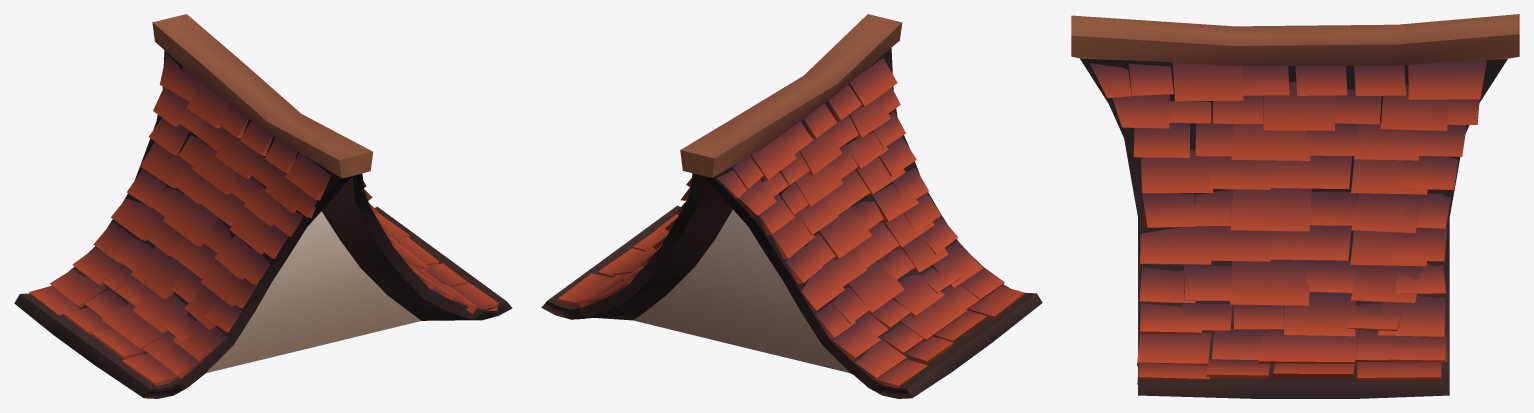
The model's file is RoofB03.fbx.
3 views of the same model, side by side, from view 1: azimuth 30°, elevation 25°; view 2: azimuth 150°, elevation 25°; view 3: azimuth 270°, elevation 25° (orthographic). The views are drawn at different scales.
Parts seen in each view (by area): view 1: RoofB03; view 2: RoofB03; view 3: RoofB03.
Boxes of the visible parts, x1,y1,x2,y2 form: RoofB03: (14,14,512,398); RoofB03: (541,14,1042,398); RoofB03: (1071,14,1519,398).
Size of the model in its own units: 774 by 455 by 678.
1 material, 1 textured.
